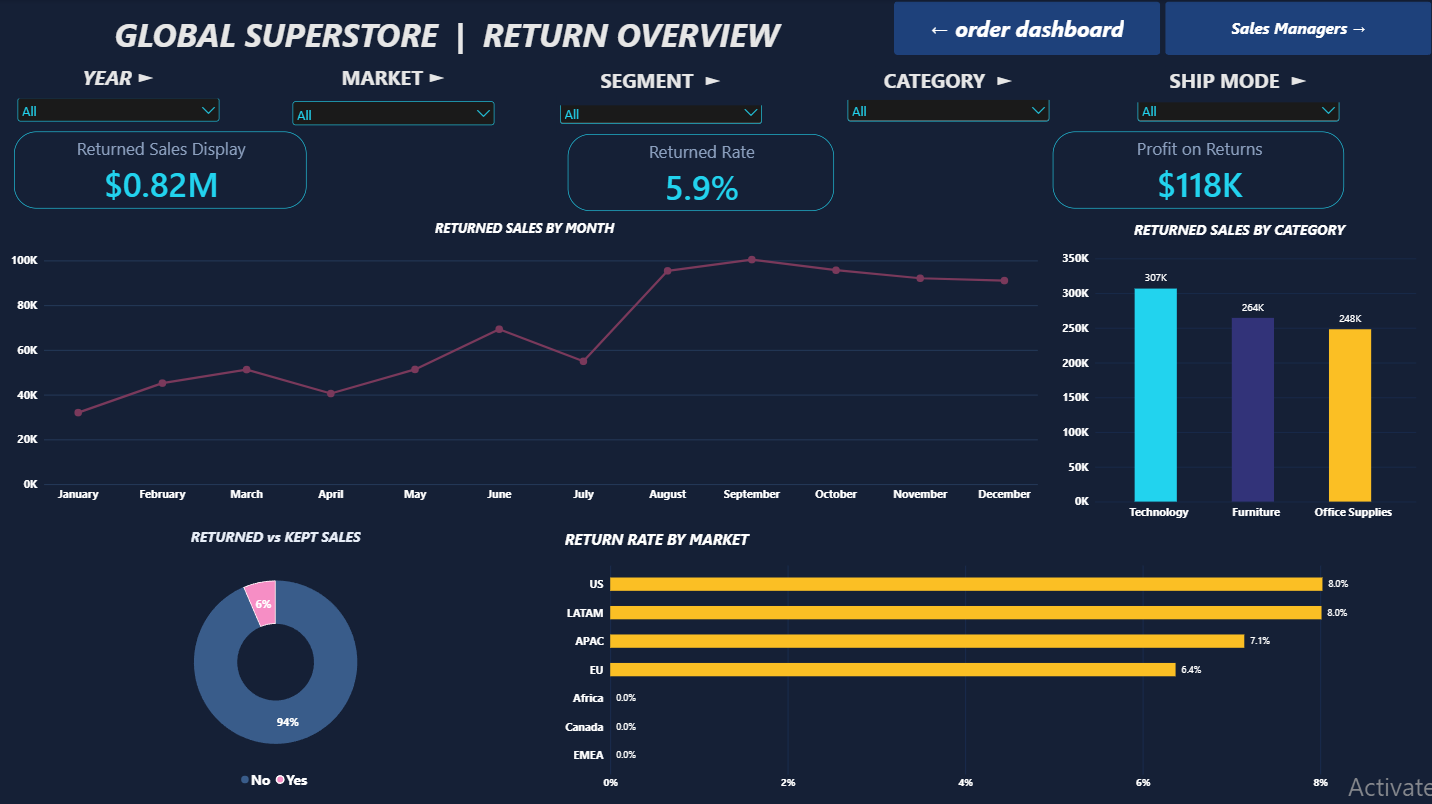

What the dashboard file says about the page in this screenshot:
{"tool":"powerbi","page":{"name":"Return Overview","canvas":[1920,1080],"ordinal":1},"visuals":[{"type":"textbox","box":[0,0,1200,86.7],"z":0},{"type":"actionButton","box":[1200,3.3,356.7,71.7],"z":1000},{"type":"slicer","fields":{"Values":["Data.Year"]},"box":[20,126.7,280,51.7],"z":2000},{"type":"slicer","fields":{"Values":["Data.Market"]},"box":[388.3,131.7,280,50],"z":3000},{"type":"slicer","fields":{"Values":["Data.Category"]},"box":[1131.7,126.7,280,51.7],"z":4000},{"type":"slicer","fields":{"Values":["Data.Ship Mode"]},"box":[1521.7,126.7,280,51.7],"z":5000},{"type":"slicer","fields":{"Values":["Data.Segment"]},"box":[746.7,130,280,48.3],"z":6000},{"type":"textbox","box":[20,86.7,280,46.7],"z":7000},{"type":"textbox","box":[388.3,86.7,280,43.3],"z":8000},{"type":"textbox","box":[746.7,90,280,51.7],"z":9000},{"type":"textbox","box":[1131.7,90,280,45],"z":10000},{"type":"textbox","box":[1521.7,90,280,48.3],"z":11000},{"type":"cardVisual","fields":{"Data":["_measures.Returned Sales Display"]},"box":[20,178.3,391.7,103.3],"z":12000},{"type":"cardVisual","fields":{"Data":["_measures.profit on returnes"]},"box":[1411.7,178.3,390,103.3],"z":13000},{"type":"cardVisual","fields":{"Data":["_measures.Returned Rate"]},"box":[761.7,181.7,356.7,103.3],"z":14000},{"type":"actionButton","box":[1563.3,3.3,356.7,71.7],"z":15000},{"type":"donutChart","title":"RETURNED vs KEPT SALES","fields":{"Category":["Data.Returned"],"Y":["_measures.Total Sales"]},"box":[0,694.2,741.3,385.5],"z":16000},{"type":"lineChart","title":"RETURNED SALES BY MONTH","fields":{"Category":["Data.Order Date.Variation.Date Hierarchy.Month"],"Y":["_measures.Returned Sales"]},"box":[0,281.7,1408.3,413.3],"z":17000},{"type":"clusteredBarChart","title":"RETURN RATE BY MARKET","fields":{"Category":["Data.Market"],"Y":["_measures.Return Rate"]},"box":[741.7,695,1173.3,385],"z":18000},{"type":"clusteredColumnChart","title":"RETURNED SALES BY CATEGORY","fields":{"Category":["Data.Category"],"Y":["_measures.Returned Sales"]},"box":[1408.3,281.7,506.7,436.7],"z":19000}]}

Visuals, with their boxes in screenshot pixels (x1, y1, x2, y2), scaled from the page's 1920x1080 canvas onto the 1432x804 screenshot:
textbox: 0/0/895/65
actionButton: 895/2/1161/56
slicer - Data.Year: 15/94/224/133
slicer - Data.Market: 290/98/498/135
slicer - Data.Category: 844/94/1053/133
slicer - Data.Ship Mode: 1135/94/1344/133
slicer - Data.Segment: 557/97/766/133
textbox: 15/65/224/99
textbox: 290/65/498/97
textbox: 557/67/766/105
textbox: 844/67/1053/100
textbox: 1135/67/1344/103
cardVisual - _measures.Returned Sales Display: 15/133/307/210
cardVisual - _measures.profit on returnes: 1053/133/1344/210
cardVisual - _measures.Returned Rate: 568/135/834/212
actionButton: 1166/2/1431/56
"RETURNED vs KEPT SALES" donutChart: 0/517/553/803
"RETURNED SALES BY MONTH" lineChart: 0/210/1050/517
"RETURN RATE BY MARKET" clusteredBarChart: 553/517/1428/803
"RETURNED SALES BY CATEGORY" clusteredColumnChart: 1050/210/1428/535
